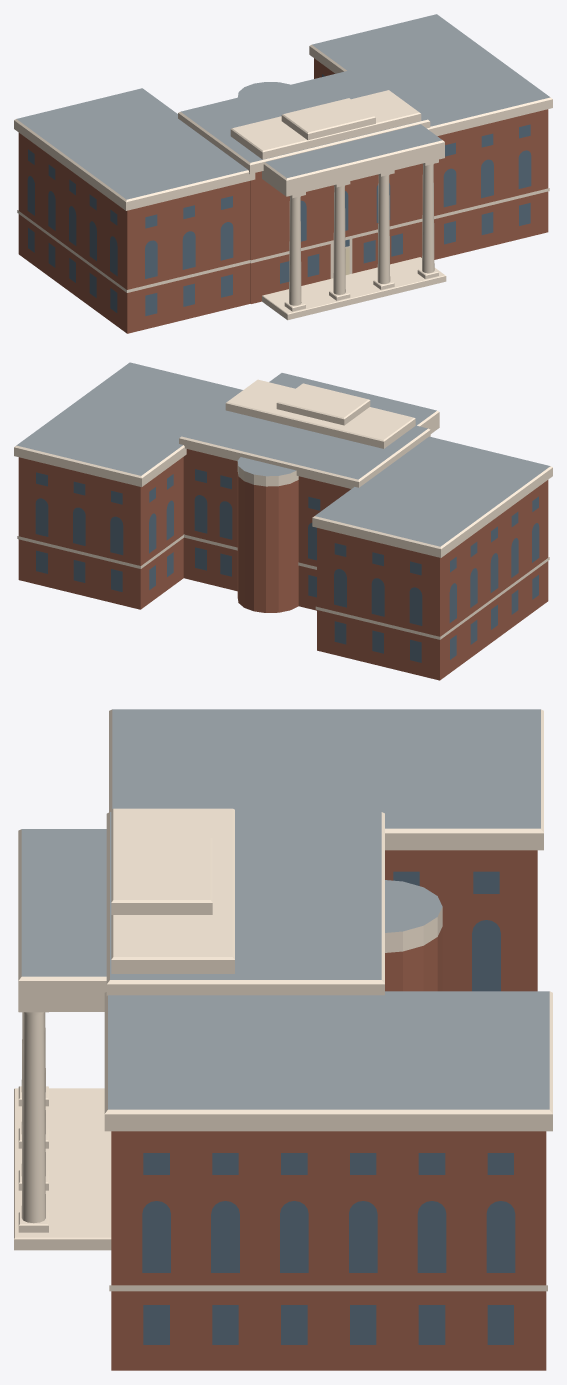
The model's file is cola-south-caroliniana-library.glb.
3 views of the same model, one above another, from view 1: azimuth 30°, elevation 25°; view 2: azimuth 150°, elevation 25°; view 3: azimuth 270°, elevation 25° (orthographic). The views are drawn at different scales.
Visible parts, largest first — view 1: South Caroliniana Library; view 2: South Caroliniana Library; view 3: South Caroliniana Library.
Boxes of the visible parts, left/top/right/bottom form: South Caroliniana Library: left=14, top=14, right=552, bottom=333; South Caroliniana Library: left=14, top=362, right=552, bottom=680; South Caroliniana Library: left=14, top=709, right=552, bottom=1370.
Size of the model in its own units: 43.2 by 15.3 by 24.4.
